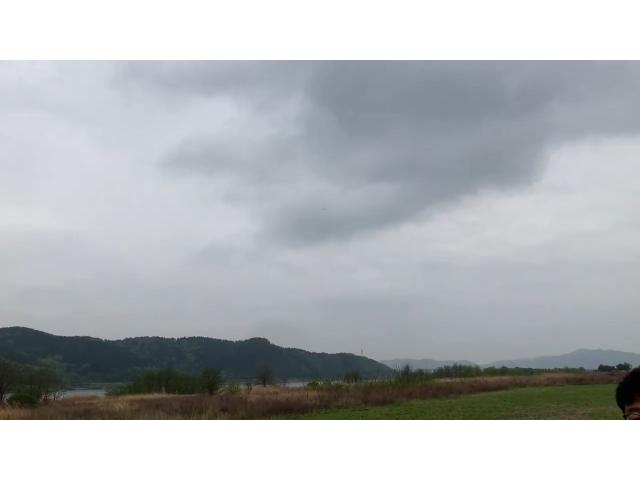Anti-Drone: (316, 203, 334, 215)
